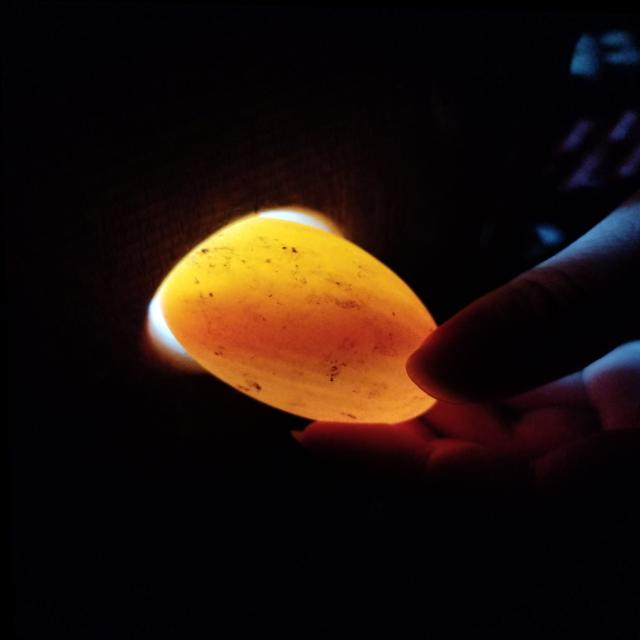Gema Quebrada: (169, 289, 425, 369)
